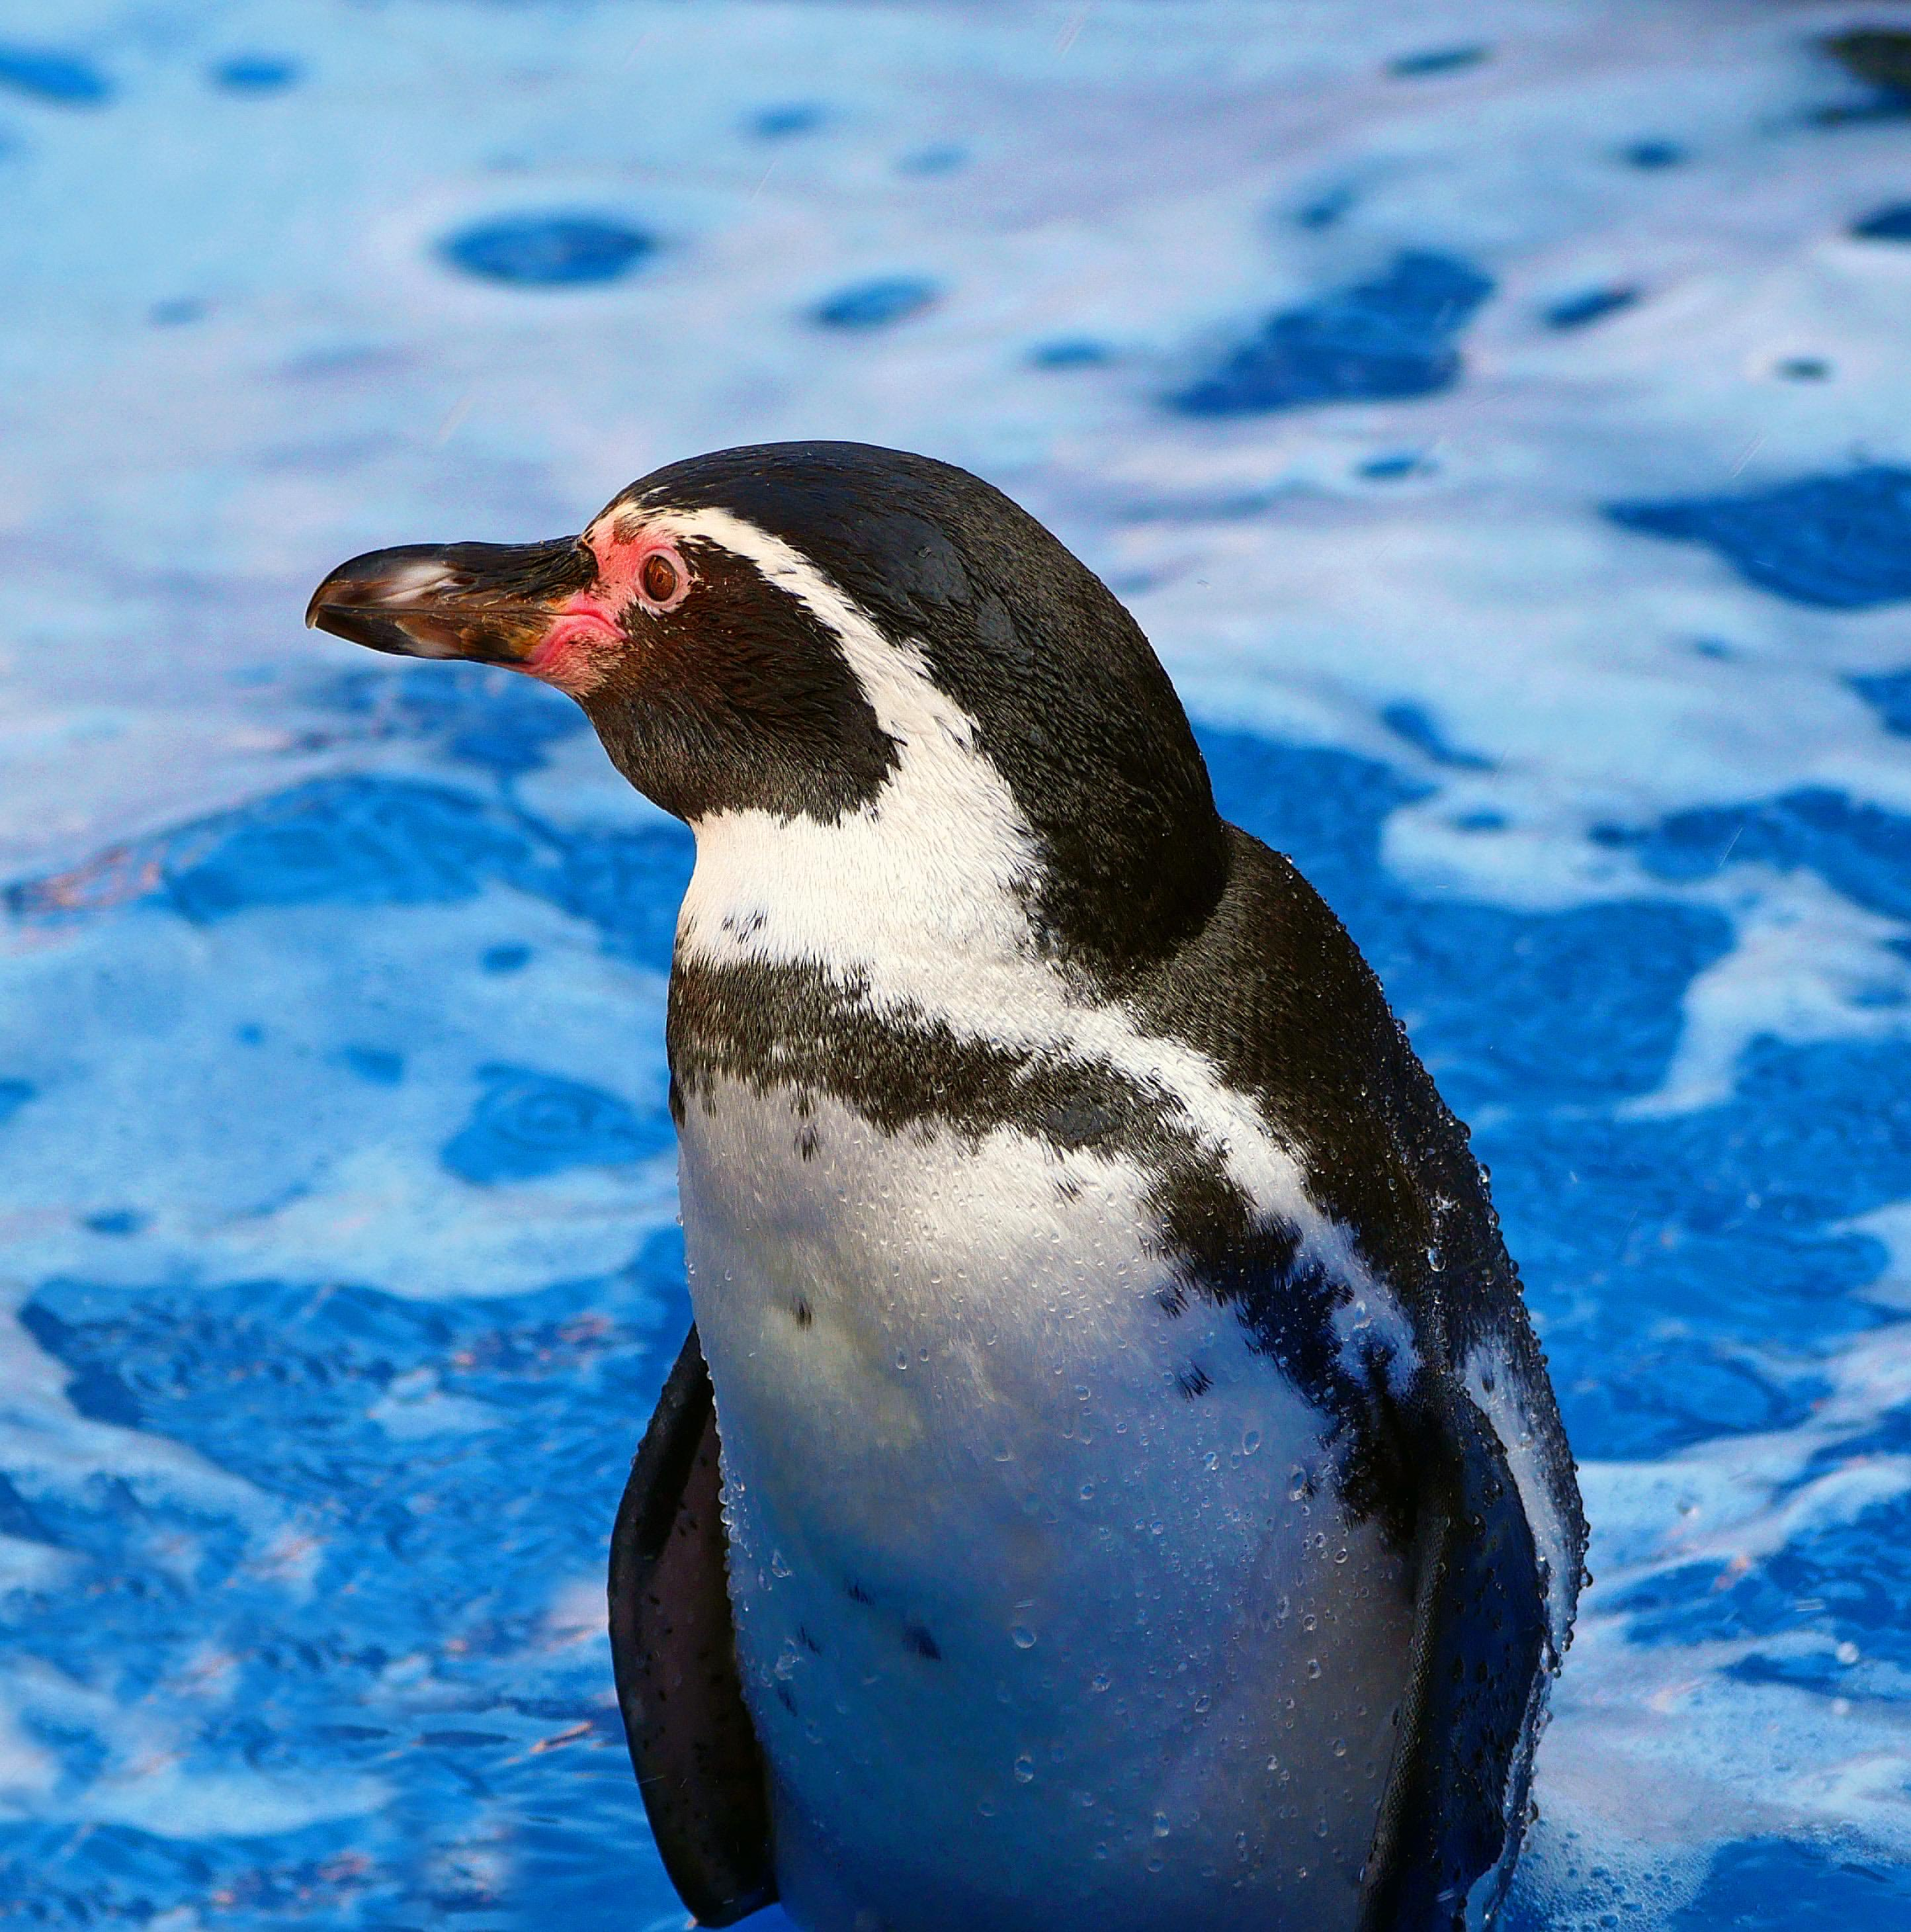penguin: (280, 425, 1635, 1932)
